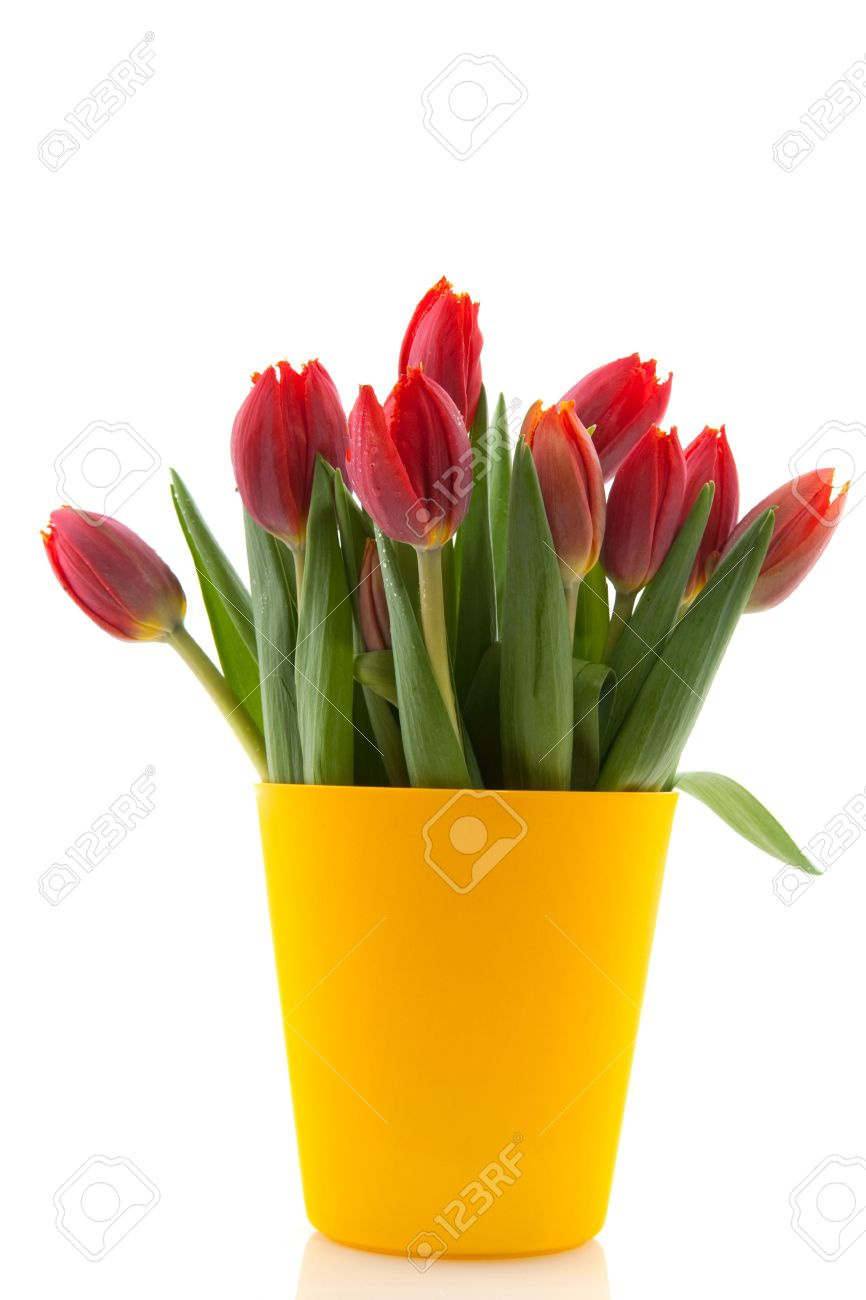flowerpot: (255, 777, 677, 1264)
